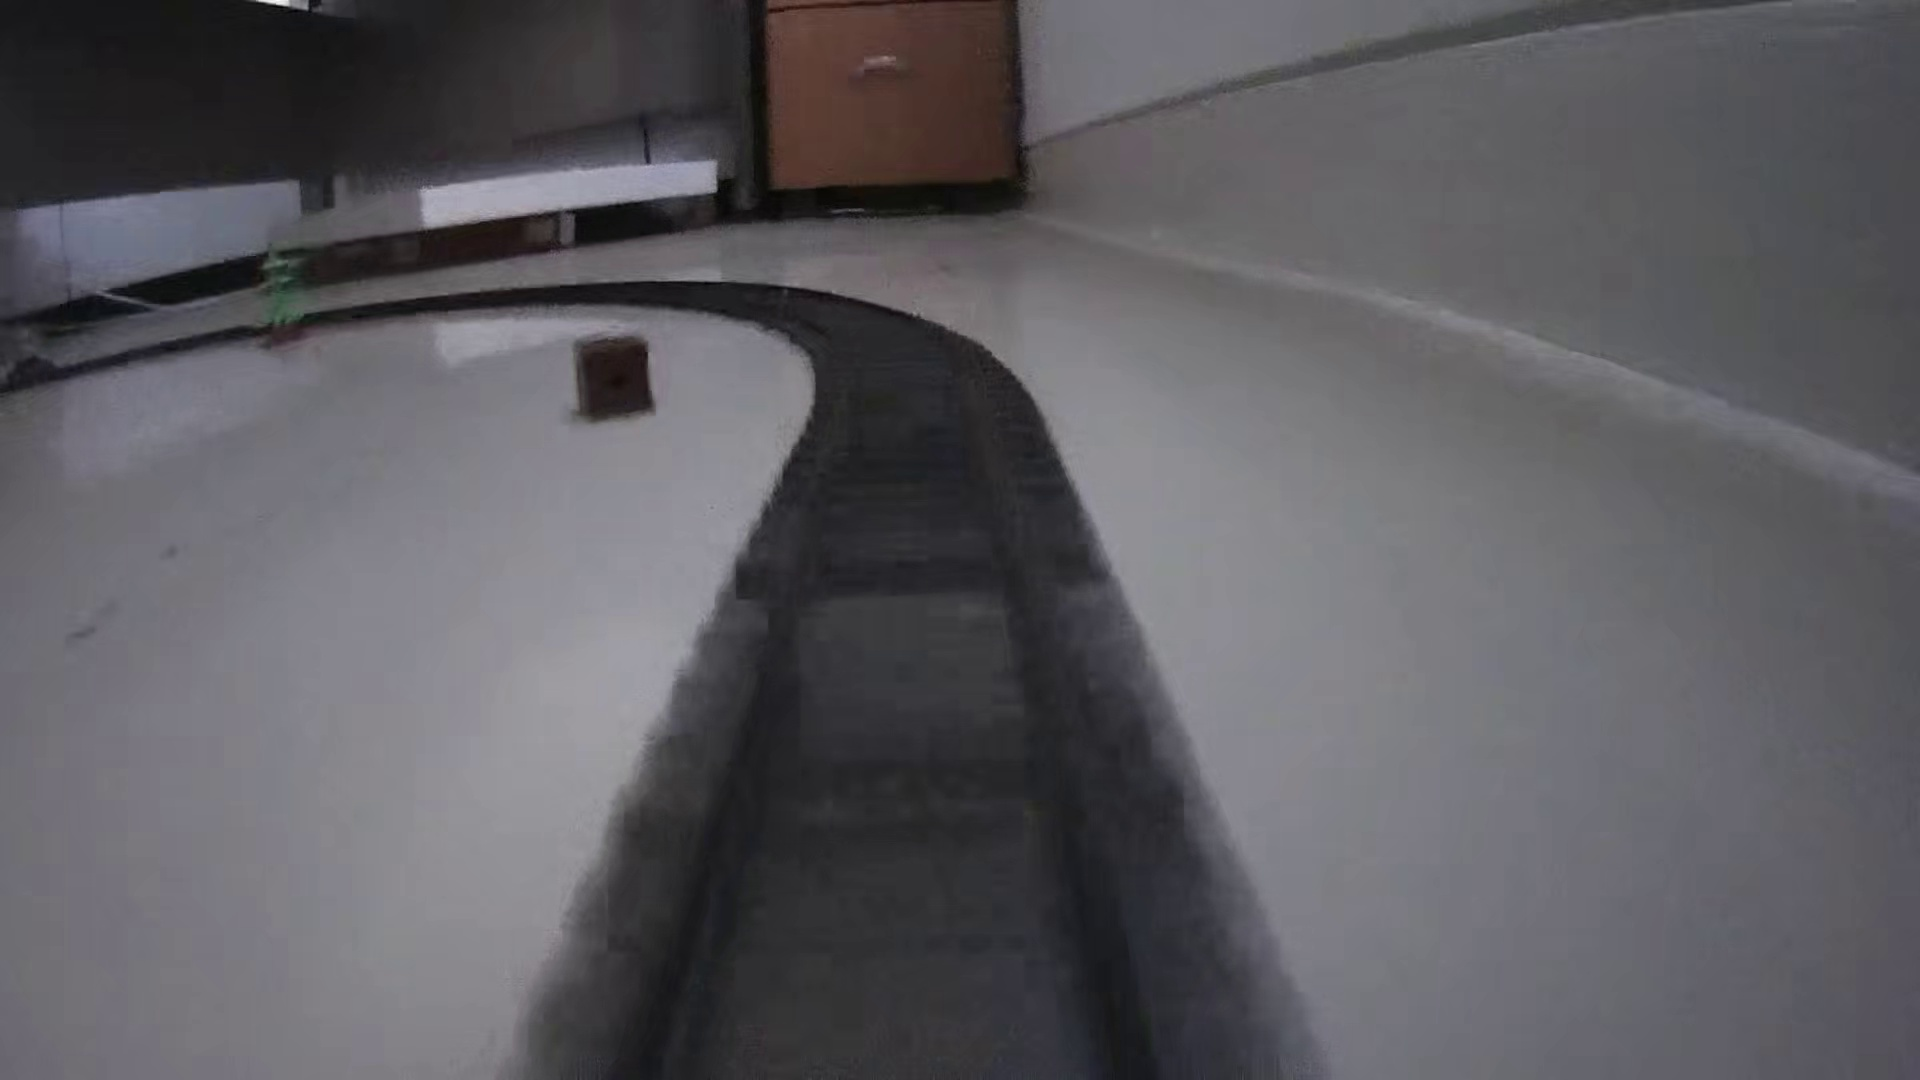box: (572, 331, 656, 423)
tree: (244, 227, 308, 350)
